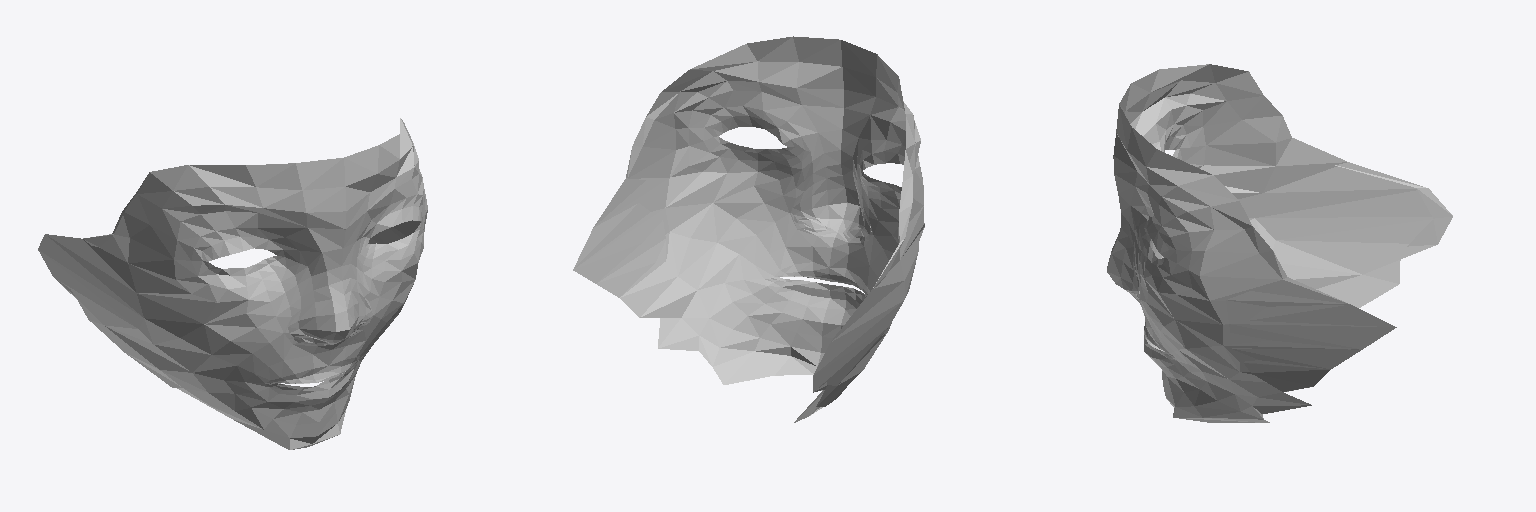
File: in-character.obj
The picture shows the model from 3 angles: view 1: azimuth 30°, elevation 25°; view 2: azimuth 150°, elevation 25°; view 3: azimuth 270°, elevation 25°; orthographic projection.
Parts seen in each view (by area): view 1: MyMesh; view 2: MyMesh; view 3: MyMesh.
Part boxes in pixels (x1,y1,x2,y2): MyMesh: (38, 118, 427, 449); MyMesh: (573, 36, 924, 422); MyMesh: (1107, 64, 1452, 422).
Bounding box in the file's own units: 0.3624 × 0.3865 × 0.3899.